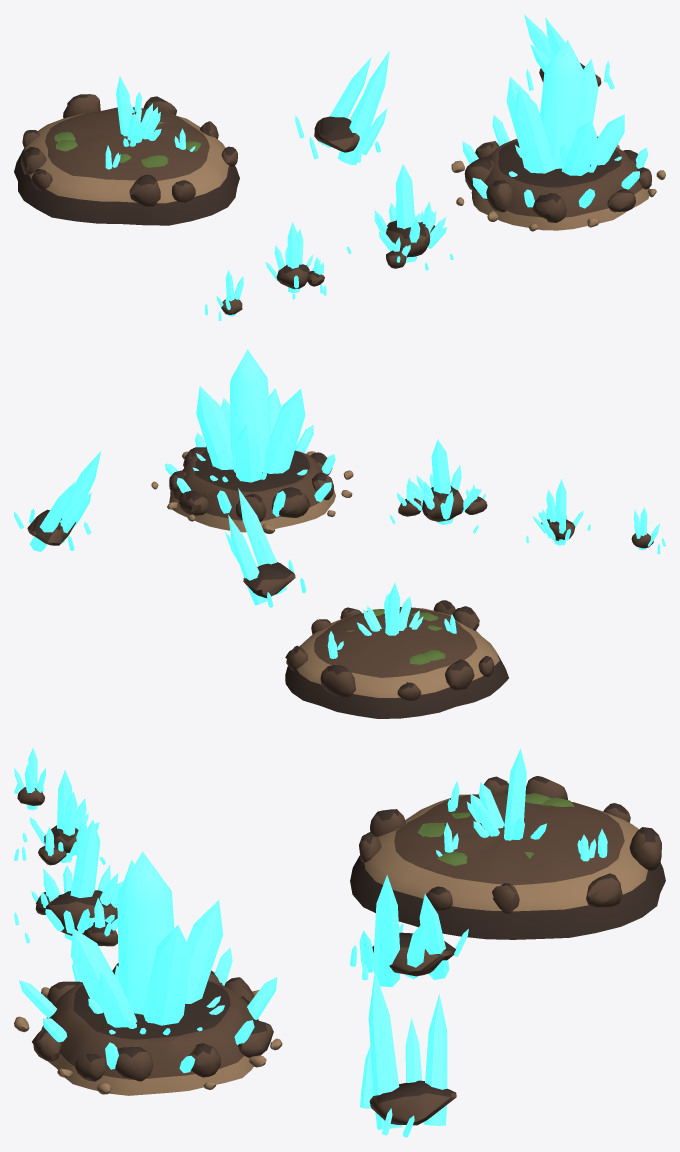
Rendered from kit_grotto.glb.
3 renders of one model, top to bottom at view 1: azimuth 30°, elevation 25°; view 2: azimuth 150°, elevation 25°; view 3: azimuth 270°, elevation 25°, orthographic. The views are drawn at different scales.
Visible parts, largest first — view 1: lake_island, crystal_druse, crystal_fangs, crystal_cluster_l, crystal_cluster_m, crystal_cluster_s; view 2: lake_island, crystal_druse, crystal_fangs, crystal_cluster_l, crystal_cluster_m, crystal_cluster_s; view 3: lake_island, crystal_druse, crystal_fangs, crystal_cluster_l, crystal_cluster_m, crystal_cluster_s.
Boxes of the visible parts, x1=… form: lake_island: x1=14, y1=75, x2=239, y2=225; crystal_druse: x1=451, y1=40, x2=665, y2=231; crystal_fangs: x1=295, y1=14, x2=614, y2=165; crystal_cluster_l: x1=346, y1=164, x2=453, y2=270; crystal_cluster_m: x1=265, y1=222, x2=326, y2=299; crystal_cluster_s: x1=205, y1=270, x2=243, y2=320; lake_island: x1=285, y1=582, x2=508, y2=718; crystal_druse: x1=151, y1=349, x2=353, y2=533; crystal_fangs: x1=14, y1=451, x2=306, y2=607; crystal_cluster_l: x1=390, y1=439, x2=487, y2=533; crystal_cluster_m: x1=526, y1=479, x2=590, y2=545; crystal_cluster_s: x1=631, y1=507, x2=665, y2=554; lake_island: x1=350, y1=748, x2=665, y2=939; crystal_druse: x1=14, y1=851, x2=282, y2=1095; crystal_fangs: x1=350, y1=875, x2=468, y2=1137; crystal_cluster_l: x1=14, y1=819, x2=123, y2=946; crystal_cluster_m: x1=14, y1=769, x2=105, y2=865; crystal_cluster_s: x1=14, y1=747, x2=45, y2=810.
Bounding box in the file's own units: 19.42 × 5.69 × 15.43.
